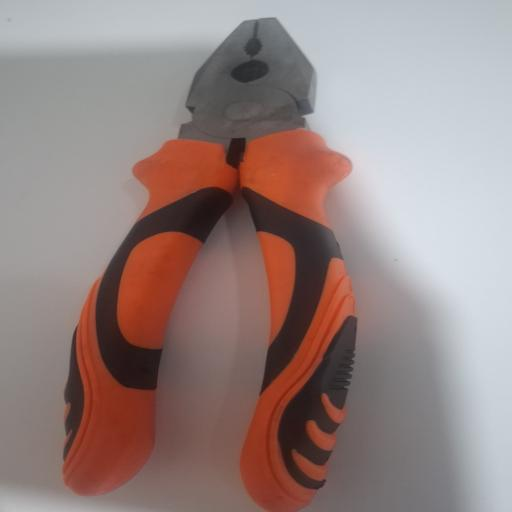alicate: (60, 16, 364, 512)
